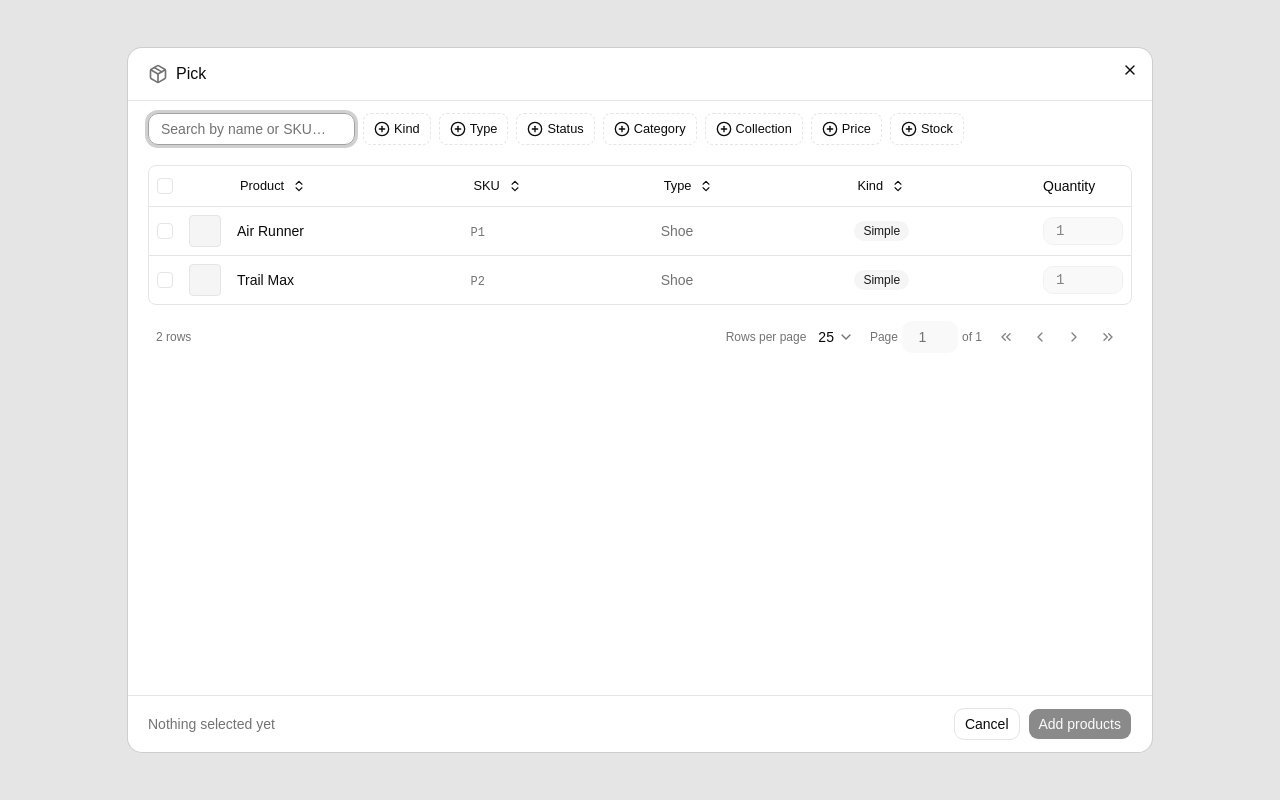
Test: ProductPickerDialog › keeps the picks when validation refuses them
Click the checkbox named "Select Air Runner": click(165, 230) [157,222,173,238]
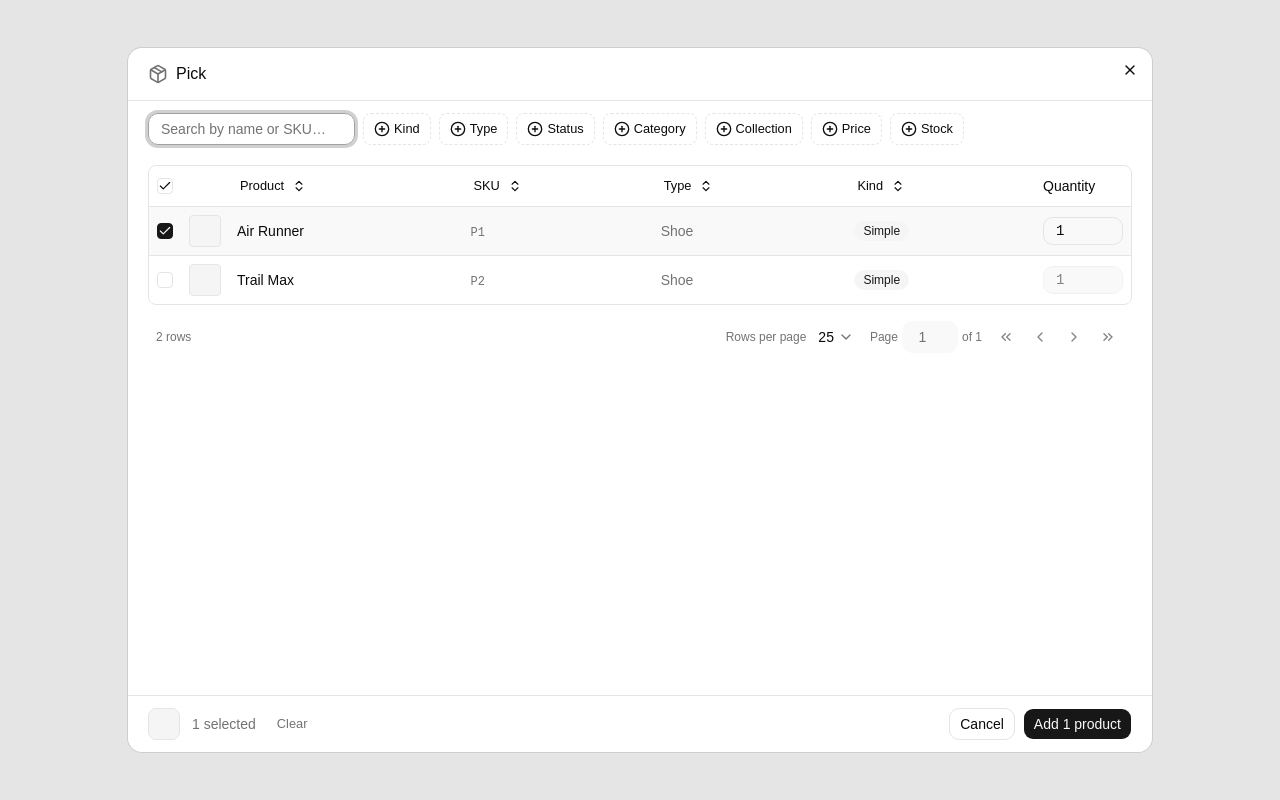
Click the button "Add 1 product": click(1077, 724) [1023,708,1132,740]
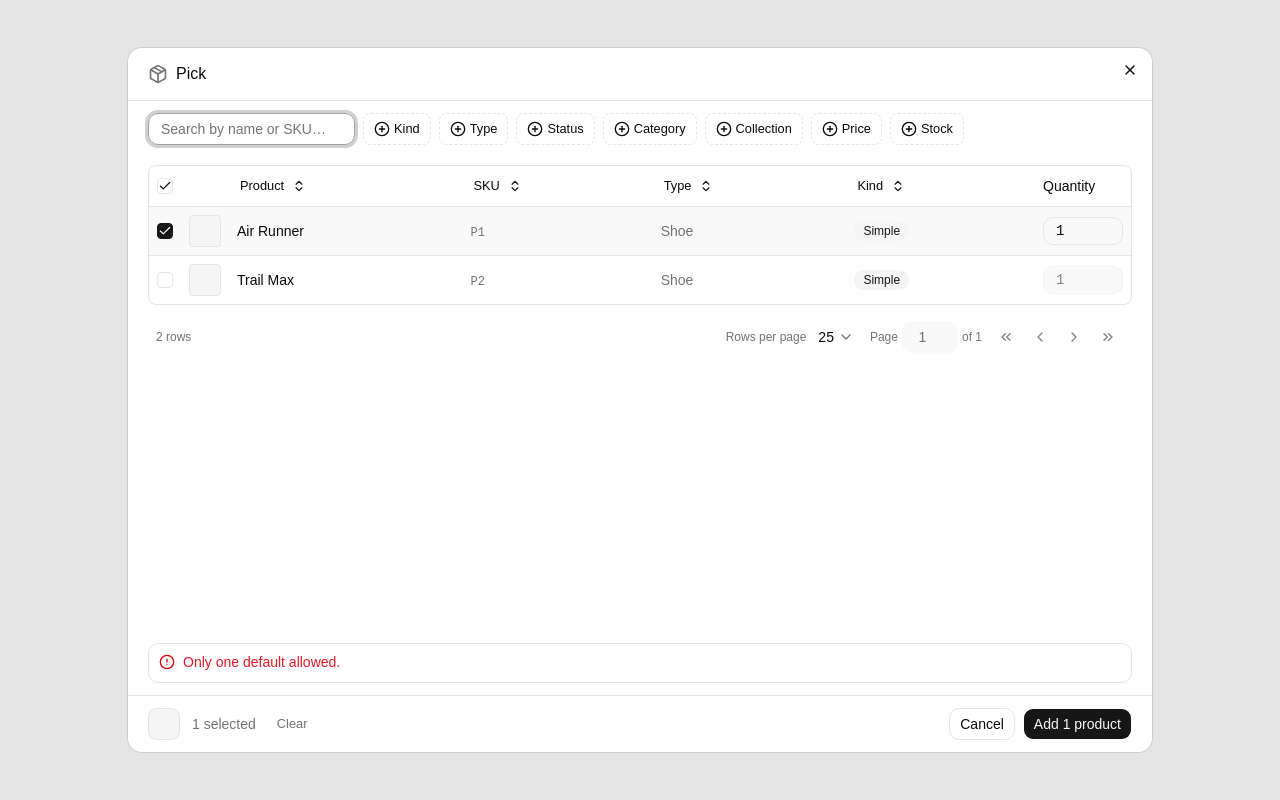
Now the button "Add 1 product" is shown, box [1023,708,1132,740]
Now the text "Only one default allowed." is shown, box [183,654,340,670]
